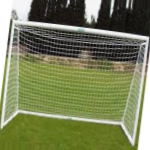goals: (2, 18, 150, 149)
